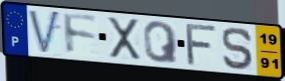F: (61, 11, 100, 56), (185, 22, 220, 67)
Q: (142, 20, 180, 65)
S: (221, 26, 256, 72)
V: (27, 8, 63, 57)
X: (106, 16, 144, 62)
